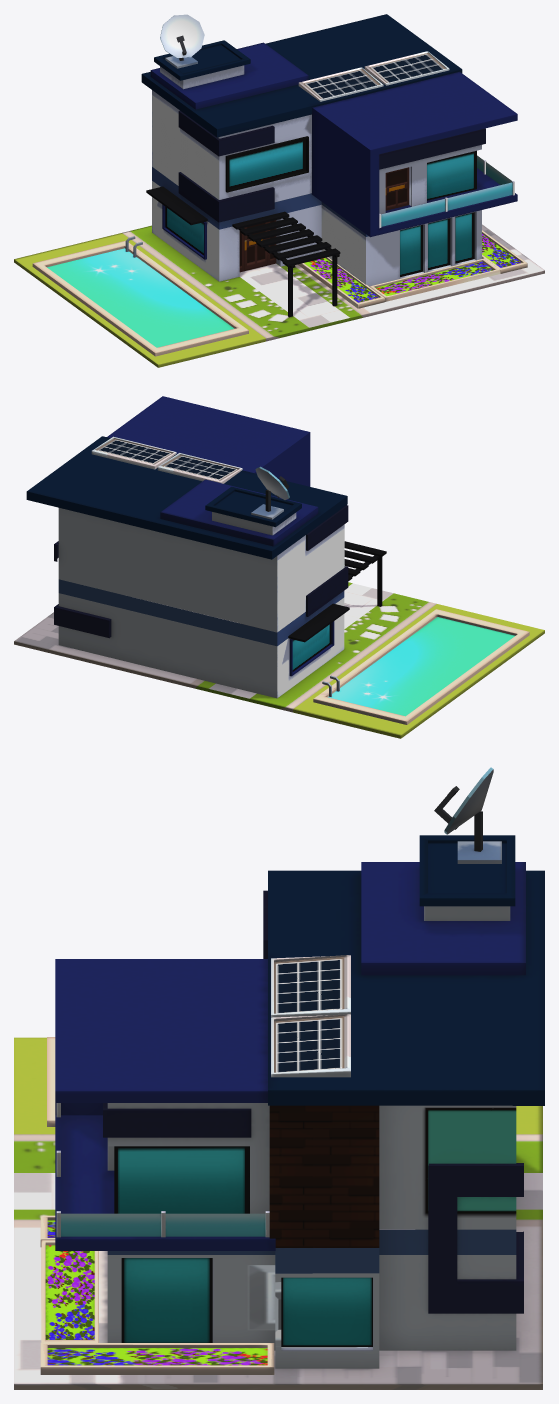
The model's file is Tx_Building_PH_6.fbx.
3 renders of one model, top to bottom at view 1: azimuth 30°, elevation 25°; view 2: azimuth 150°, elevation 25°; view 3: azimuth 270°, elevation 25°, orthographic. The views are drawn at different scales.
Visible parts, largest first — view 1: Building, Swimming_pool, Flower_Bed, Satelite_dish, Flower_Bed2, Solar_Panel, Solar_Panel1, Flower_Bed1; view 2: Building, Swimming_pool, Solar_Panel1, Solar_Panel, Satelite_dish; view 3: Building, Flower_Bed1, Flower_Bed, Solar_Panel1, Solar_Panel, Satelite_dish, Swimming_pool.
Boxes of the visible parts, x1,y1,x2,y2 form: Building: (14, 14, 544, 367); Swimming_pool: (32, 236, 248, 356); Flower_Bed: (369, 258, 500, 301); Satelite_dish: (160, 14, 204, 68); Flower_Bed2: (298, 257, 384, 308); Solar_Panel: (298, 67, 383, 101); Solar_Panel1: (364, 51, 449, 85); Flower_Bed1: (482, 230, 527, 273); Building: (14, 396, 544, 738); Swimming_pool: (313, 609, 529, 724); Solar_Panel1: (91, 436, 176, 469); Solar_Panel: (157, 453, 242, 483); Satelite_dish: (251, 466, 289, 519); Building: (14, 835, 544, 1389); Flower_Bed1: (40, 1343, 274, 1374); Flower_Bed: (41, 1239, 98, 1342); Solar_Panel1: (271, 1014, 350, 1077); Solar_Panel: (271, 955, 350, 1017); Satelite_dish: (434, 767, 501, 863); Swimming_pool: (47, 1037, 55, 1126).
Bounding box in the file's own units: 53.43 × 29.26 × 34.62.
